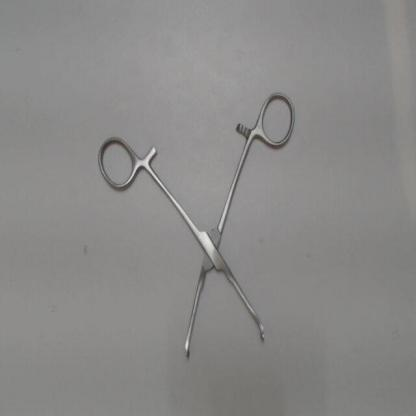Allis Tissue Forceps: (89, 82, 301, 370)
